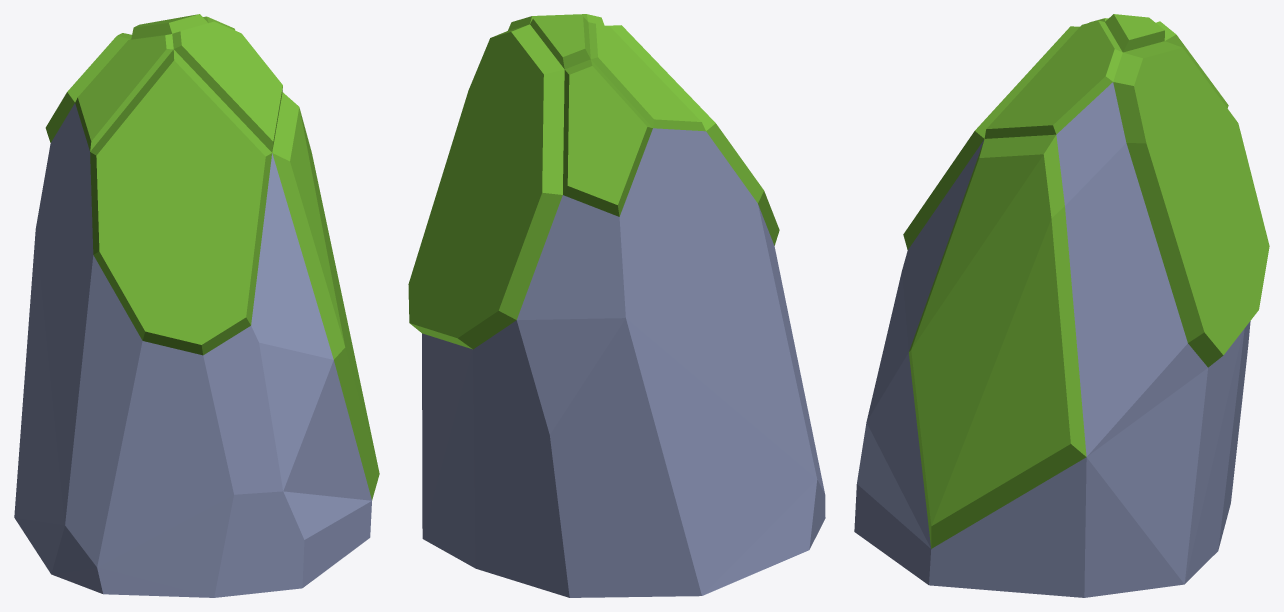
Rendered from Rock_13_1.fbx.
3 views of the same model, side by side, from view 1: azimuth 30°, elevation 25°; view 2: azimuth 150°, elevation 25°; view 3: azimuth 270°, elevation 25° (orthographic). The views are drawn at different scales.
Parts seen in each view (by area): view 1: Rock_13_1; view 2: Rock_13_1; view 3: Rock_13_1.
Boxes of the visible parts, x1,y1,x2,y2 form: Rock_13_1: (14,14,379,597); Rock_13_1: (408,14,825,597); Rock_13_1: (854,14,1269,597).
Bounding box in the file's own units: 1.83 × 2.65 × 1.95.
